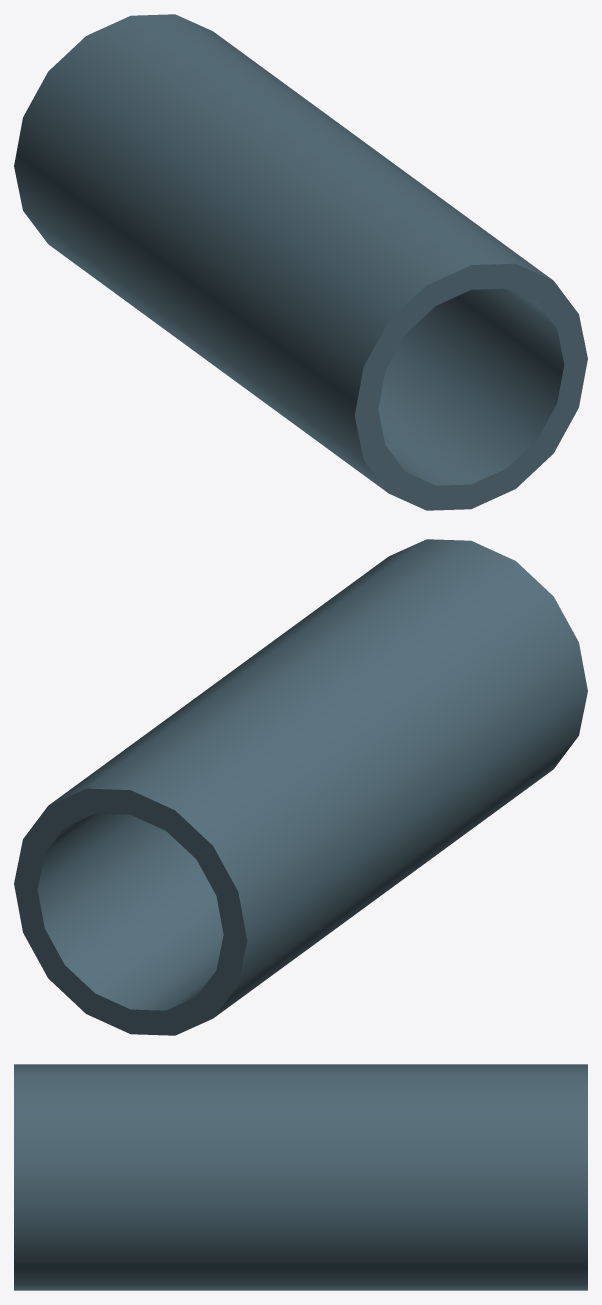
The model's file is pipeglass_001.fbx.
3 views of the same model, one above another, from view 1: azimuth 30°, elevation 25°; view 2: azimuth 150°, elevation 25°; view 3: azimuth 270°, elevation 25° (orthographic). The views are drawn at different scales.
Visible parts, largest first — view 1: pipeglass_001; view 2: pipeglass_001; view 3: pipeglass_001.
Part boxes in pixels (bbox=[...]): pipeglass_001: bbox=[14, 14, 587, 510]; pipeglass_001: bbox=[14, 539, 587, 1035]; pipeglass_001: bbox=[14, 1064, 587, 1290].
Size of the model in its own units: 395 by 1000 by 395.
